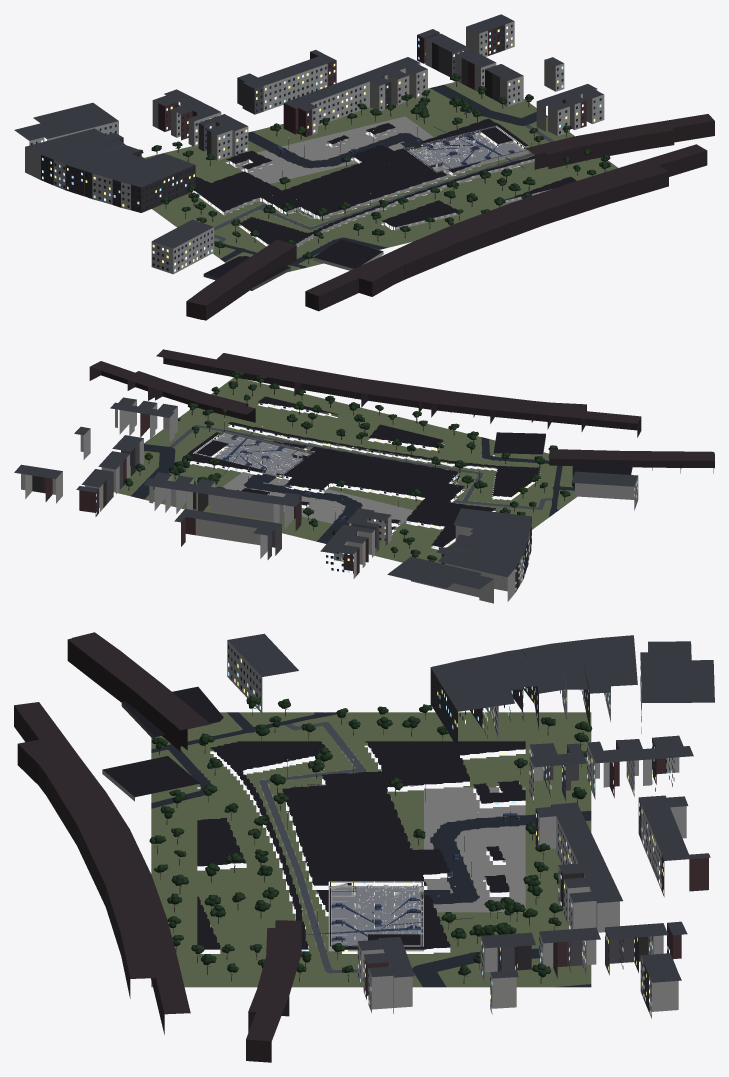
Rendered from level.glb.
3 views of the same model, one above another, from view 1: azimuth 30°, elevation 25°; view 2: azimuth 150°, elevation 25°; view 3: azimuth 270°, elevation 25° (orthographic). The views are drawn at different scales.
Parts seen in each view (by area): view 1: static, blocks_caps, canopies, far_canopies, far_caps, far_windows; view 2: static, blocks_caps, far_canopies, canopies, far_caps; view 3: static, blocks_caps, canopies, far_canopies, far_caps, far_windows.
Part boxes in pixels (<box>): static: <box>14,14,714,320</box>; blocks_caps: <box>194,118,576,244</box>; canopies: <box>187,97,535,244</box>; far_canopies: <box>139,74,610,258</box>; far_caps: <box>204,239,382,287</box>; far_windows: <box>41,26,601,271</box>; static: <box>14,349,714,603</box>; blocks_caps: <box>187,396,539,547</box>; far_canopies: <box>124,371,574,561</box>; canopies: <box>169,401,544,534</box>; far_caps: <box>493,432,632,477</box>; static: <box>14,632,714,1062</box>; blocks_caps: <box>197,741,525,949</box>; canopies: <box>198,724,540,938</box>; far_canopies: <box>149,696,592,977</box>; far_caps: <box>102,686,223,797</box>; far_windows: <box>228,658,674,1014</box>.
Bounding box in the file's own units: 295 × 12.4 × 213.
